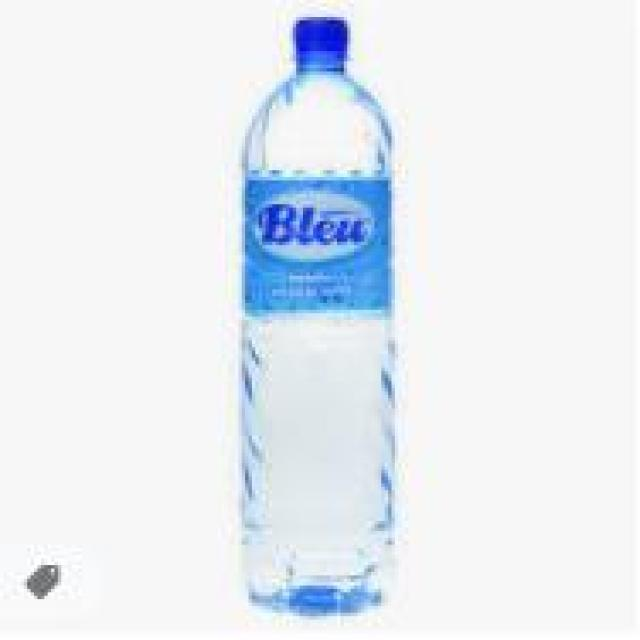bottle: (223, 7, 403, 626)
